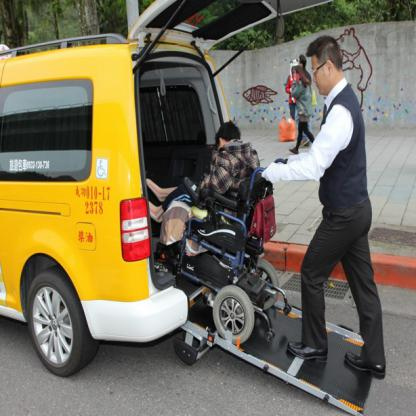wheelchair: (142, 118, 290, 346)
